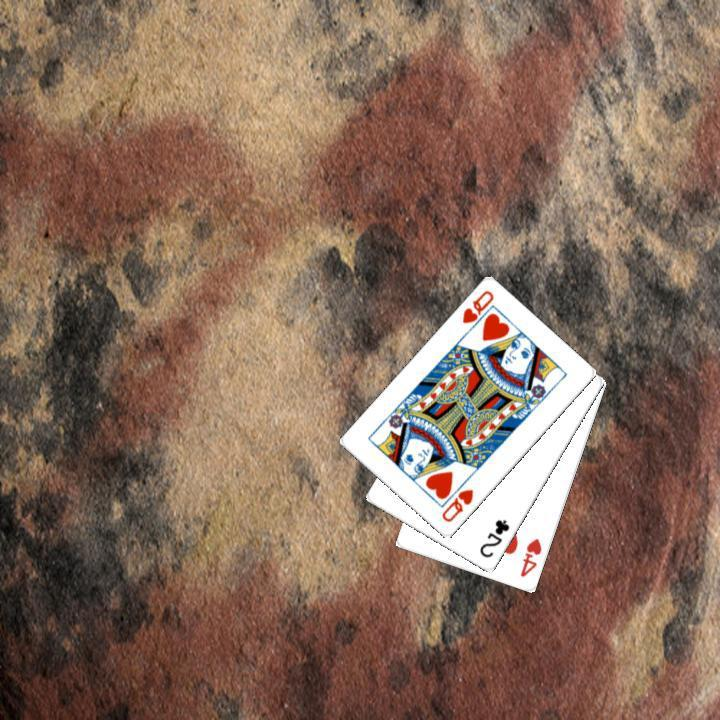2: (475, 515, 512, 560)
4: (516, 534, 544, 580)
Q: (458, 286, 497, 337), (437, 485, 476, 525)
